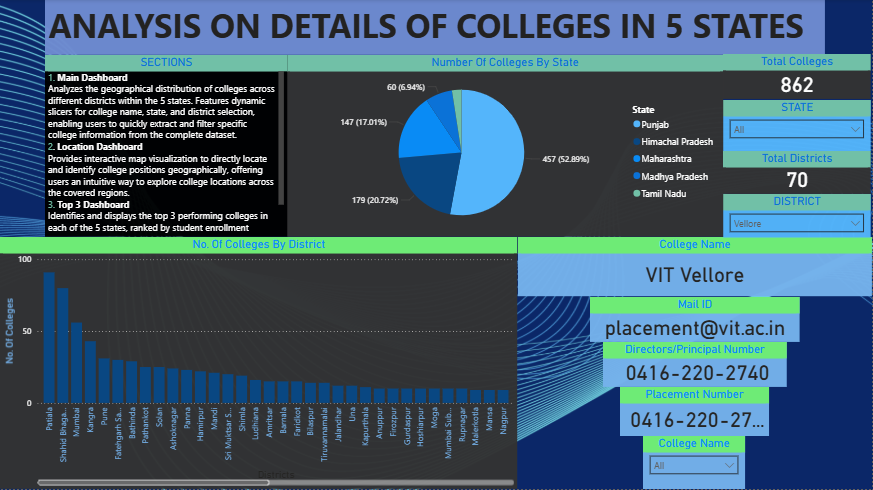

What the dashboard file says about the page in this screenshot:
{"tool":"powerbi","page":{"name":"Main","canvas":[1280,720],"ordinal":0},"visuals":[{"type":"textbox","box":[65.9,0,1145.8,82.3],"z":0},{"type":"clusteredColumnChart","title":"No. Of Colleges By District","fields":{"Category":["Table1.District"],"Y":["CountNonNull(Table1.College Name)"]},"box":[0,350,760.5,369.8],"z":1000},{"type":"card","title":"Placement Number","fields":{"Values":["Min(Table1.Placement cell no)"]},"box":[911.6,569.8,218.6,72.1],"z":2000},{"type":"card","title":"Mail ID","fields":{"Values":["Min(Table1.Mail id)"]},"box":[866.3,437.2,308.1,66.3],"z":3000},{"type":"card","title":"Directors/Principal Number","fields":{"Values":["Min(Table1.Principal/ Director No)"]},"box":[886,503.5,269.8,66.3],"z":4000},{"type":"card","title":"College Name","fields":{"Values":["Min(Table1.College Name)"]},"box":[760.5,350,519.8,87.2],"z":5000},{"type":"slicer","title":"College Name","fields":{"Values":["Table1.College Name"]},"box":[945.4,641.9,150,77.9],"z":6000},{"type":"slicer","title":"STATE","fields":{"Values":["Table1.State"]},"box":[1062.8,147.7,217.4,75.6],"z":7000},{"type":"slicer","title":"DISTRICT","fields":{"Values":["Table1.District"]},"box":[1062.8,286,217.4,64],"z":8000},{"type":"pieChart","title":"Number Of Colleges By State","fields":{"Category":["Table1.State"],"Y":["CountNonNull(Table1.College Name)"]},"box":[422.1,82.6,640.7,267.4],"z":9000},{"type":"card","title":"Total Colleges","fields":{"Values":["Count(Table1.College Name)"]},"box":[1062.8,81.4,217.4,66.3],"z":10000},{"type":"card","title":"Total Districts","fields":{"Values":["Count(Table1.District)"]},"box":[1062.8,223.3,217.4,62.8],"z":11000},{"type":"textbox","title":"SECTIONS","box":[66,83,356,267],"z":12000}]}

Visuals, with their boxes in screenshot pixels (x1, y1, x2, y2), scaled from the page's 1280x720 canvas onto the 873x490 screenshot:
textbox: bbox=(45, 0, 826, 56)
"No. Of Colleges By District" clusteredColumnChart: bbox=(0, 238, 519, 489)
"Placement Number" card: bbox=(622, 388, 771, 437)
"Mail ID" card: bbox=(591, 298, 801, 343)
"Directors/Principal Number" card: bbox=(604, 343, 788, 388)
"College Name" card: bbox=(519, 238, 872, 298)
"College Name" slicer: bbox=(645, 437, 747, 489)
"STATE" slicer: bbox=(725, 101, 872, 152)
"DISTRICT" slicer: bbox=(725, 195, 872, 238)
"Number Of Colleges By State" pieChart: bbox=(288, 56, 725, 238)
"Total Colleges" card: bbox=(725, 55, 872, 101)
"Total Districts" card: bbox=(725, 152, 872, 195)
"SECTIONS" textbox: bbox=(45, 56, 288, 238)
